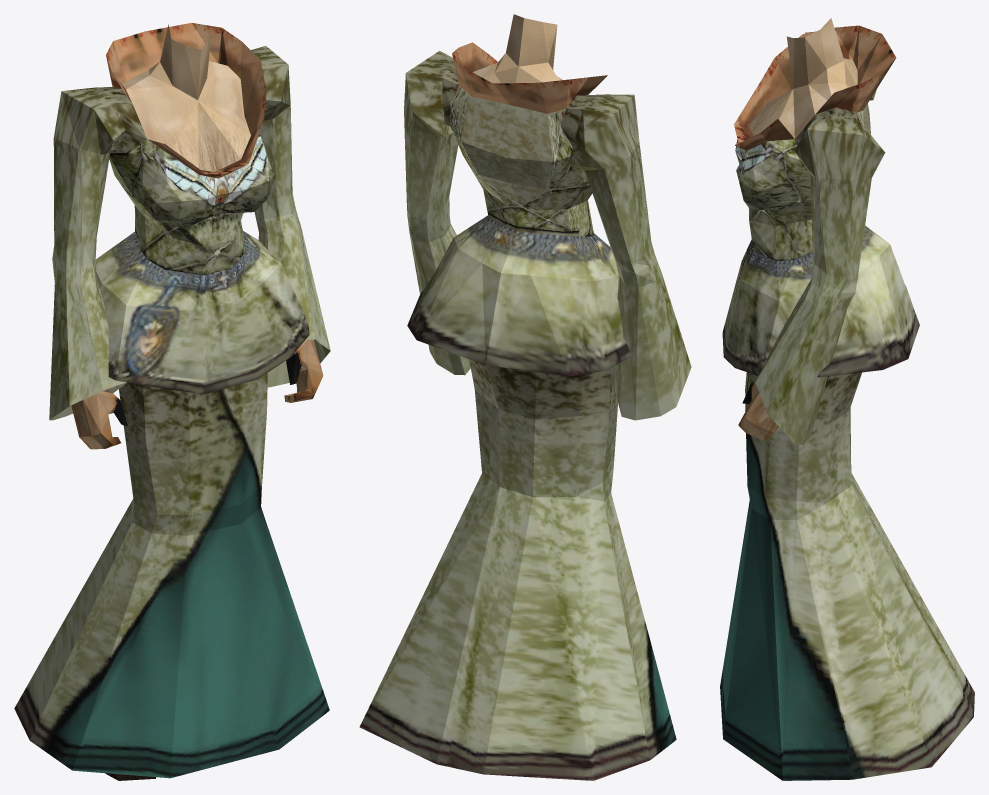
Rendered from Armor_VlkBabe_H.glb.
3 views of the same model, side by side, from view 1: azimuth 30°, elevation 25°; view 2: azimuth 150°, elevation 25°; view 3: azimuth 270°, elevation 25° (orthographic).
Visible parts, largest first — view 1: Armor_VlkBabe_Hzm_Magd; view 2: Armor_VlkBabe_Hzm_Magd; view 3: Armor_VlkBabe_Hzm_Magd.
Boxes of the visible parts, left/top/right/bottom form: Armor_VlkBabe_Hzm_Magd: left=14, top=23, right=330, bottom=780; Armor_VlkBabe_Hzm_Magd: left=359, top=14, right=691, bottom=780; Armor_VlkBabe_Hzm_Magd: left=720, top=18, right=974, bottom=780.
Size of the model in its own units: 0.6642 by 1.66 by 0.5338.
Materials: 2 (2 with a texture image).
